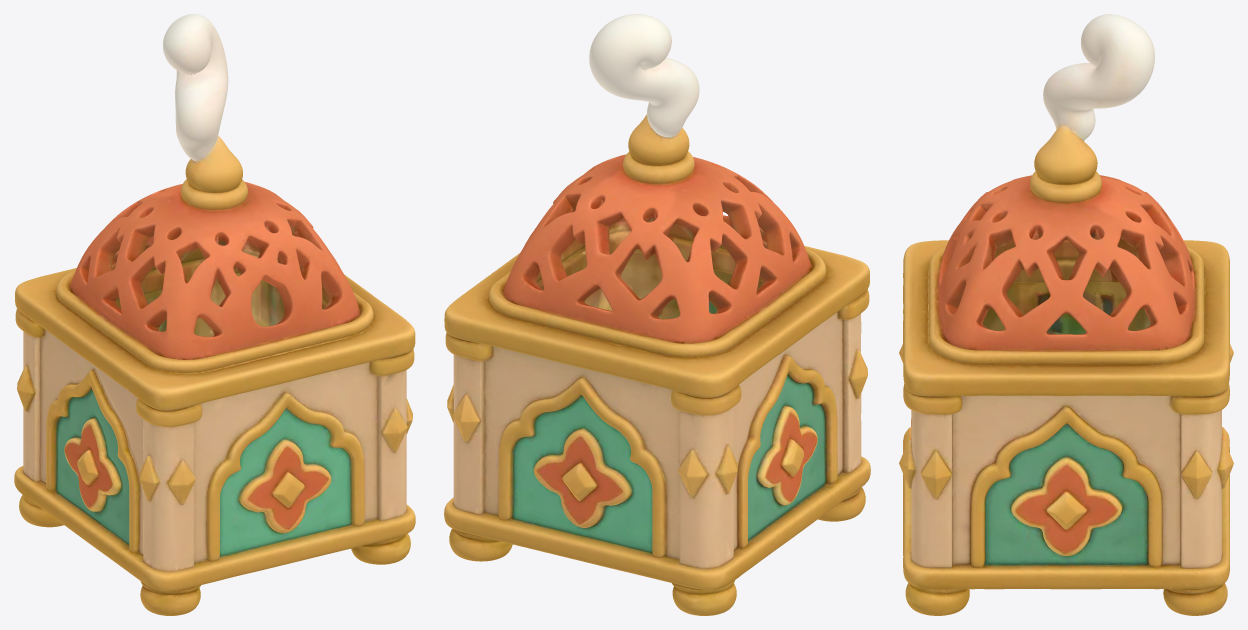
Rendered from Meshy_AI_model.glb.
3 renders of one model, left to right at view 1: azimuth 30°, elevation 25°; view 2: azimuth 150°, elevation 25°; view 3: azimuth 270°, elevation 25°, orthographic. The views are drawn at different scales.
Parts seen in each view (by area): view 1: mesh_node; view 2: mesh_node; view 3: mesh_node.
Boxes of the visible parts, <box> form: mesh_node: <box>14,14,415,615</box>; mesh_node: <box>444,14,870,615</box>; mesh_node: <box>899,14,1233,615</box>.
Bounding box in the file's own units: 1.08 × 1.9 × 1.08.
Materials: 1 (1 with a texture image).
